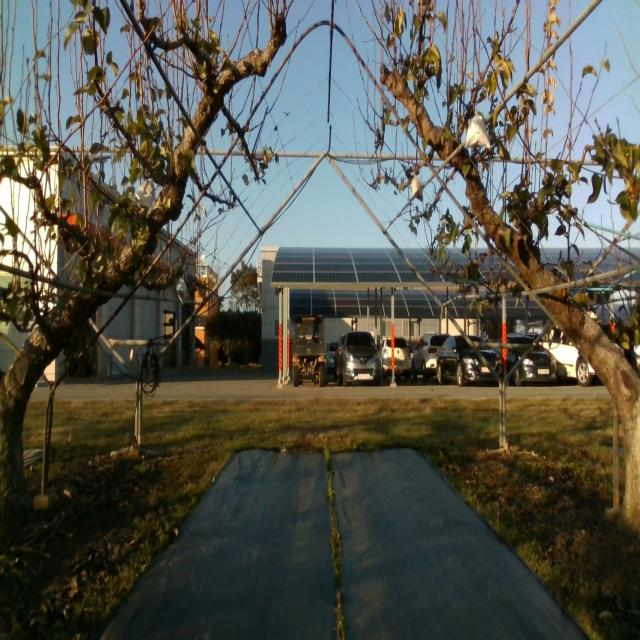pearbags: (464, 110, 491, 150), (131, 179, 156, 207), (410, 171, 423, 201), (176, 274, 186, 306)
